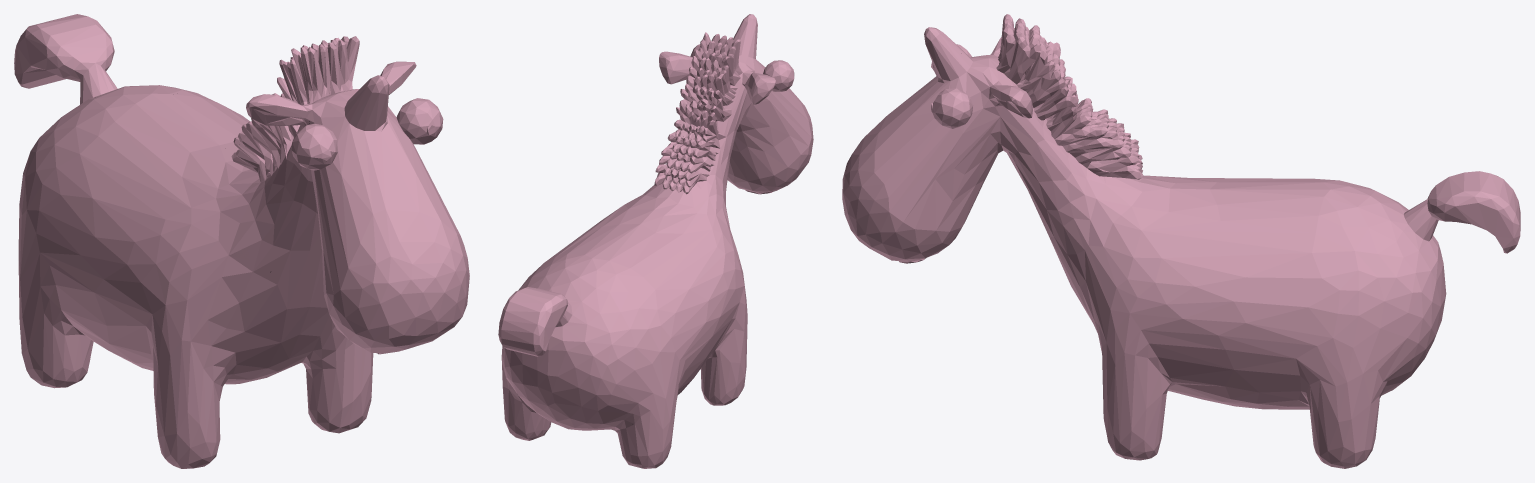
The model's file is unicorn_light_shattered.fbx.
3 views of the same model, side by side, from view 1: azimuth 30°, elevation 25°; view 2: azimuth 150°, elevation 25°; view 3: azimuth 270°, elevation 25° (orthographic). The views are drawn at different scales.
Visible parts, largest first — view 1: Unicorn, Unicorn 20160524_cell.131, Unicorn 20160524_cell.019, Unicorn 20160524_cell.007, Unicorn 20160524_cell.088, Unicorn 20160524_cell.071, Unicorn 20160524_cell.029, Unicorn 20160524_cell.133, Unicorn 20160524_cell.089, Unicorn 20160524_cell.136, Unicorn 20160524_cell.010, Unicorn 20160524_cell.016 (+16 smaller); view 2: Unicorn, Unicorn 20160524_cell.019, Unicorn 20160524_cell.137, Unicorn 20160524_cell.080, Unicorn 20160524_cell.103, Unicorn 20160524_cell.071, Unicorn 20160524_cell.070, Unicorn 20160524_cell.086, Unicorn 20160524_cell.009, Unicorn 20160524_cell.012, Unicorn 20160524_cell.010, Unicorn 20160524_cell.045 (+22 smaller); view 3: Unicorn, Unicorn 20160524_cell.089, Unicorn 20160524_cell.134, Unicorn 20160524_cell.103, Unicorn 20160524_cell.066, Unicorn 20160524_cell.068, Unicorn 20160524_cell.095, Unicorn 20160524_cell.129, Unicorn 20160524_cell.116, Unicorn 20160524_cell.115, Unicorn 20160524_cell.137, Unicorn 20160524_cell.016 (+21 smaller).
Part boxes in pixels (x1,y1,x2,y2): Unicorn: [14, 16, 469, 468]; Unicorn 20160524_cell.131: [326, 209, 450, 335]; Unicorn 20160524_cell.019: [19, 100, 104, 240]; Unicorn 20160524_cell.007: [352, 276, 463, 354]; Unicorn 20160524_cell.088: [19, 284, 99, 388]; Unicorn 20160524_cell.071: [115, 93, 173, 204]; Unicorn 20160524_cell.029: [273, 52, 333, 133]; Unicorn 20160524_cell.133: [27, 236, 111, 341]; Unicorn 20160524_cell.089: [283, 334, 373, 413]; Unicorn 20160524_cell.136: [169, 94, 210, 168]; Unicorn 20160524_cell.010: [149, 148, 257, 212]; Unicorn 20160524_cell.016: [37, 14, 114, 86]; Unicorn: [499, 14, 813, 468]; Unicorn 20160524_cell.019: [572, 277, 676, 400]; Unicorn 20160524_cell.137: [501, 346, 590, 427]; Unicorn 20160524_cell.080: [533, 289, 589, 374]; Unicorn 20160524_cell.103: [518, 255, 608, 383]; Unicorn 20160524_cell.071: [584, 238, 699, 271]; Unicorn 20160524_cell.070: [507, 301, 553, 355]; Unicorn 20160524_cell.086: [621, 419, 667, 468]; Unicorn 20160524_cell.009: [729, 111, 774, 158]; Unicorn 20160524_cell.012: [700, 346, 745, 404]; Unicorn 20160524_cell.010: [641, 190, 710, 250]; Unicorn 20160524_cell.045: [609, 376, 667, 407]; Unicorn: [842, 16, 1519, 468]; Unicorn 20160524_cell.089: [1097, 290, 1204, 428]; Unicorn 20160524_cell.134: [1197, 332, 1340, 409]; Unicorn 20160524_cell.103: [1324, 183, 1404, 318]; Unicorn 20160524_cell.066: [1164, 270, 1318, 348]; Unicorn 20160524_cell.068: [880, 111, 980, 193]; Unicorn 20160524_cell.095: [1219, 199, 1327, 260]; Unicorn 20160524_cell.129: [1038, 158, 1142, 274]; Unicorn 20160524_cell.116: [1290, 390, 1378, 468]; Unicorn 20160524_cell.115: [1318, 305, 1382, 389]; Unicorn 20160524_cell.137: [1351, 306, 1444, 410]; Unicorn 20160524_cell.016: [1432, 174, 1520, 253].
Size of what is drawn, in the model's own units: 183 by 337 by 515.
